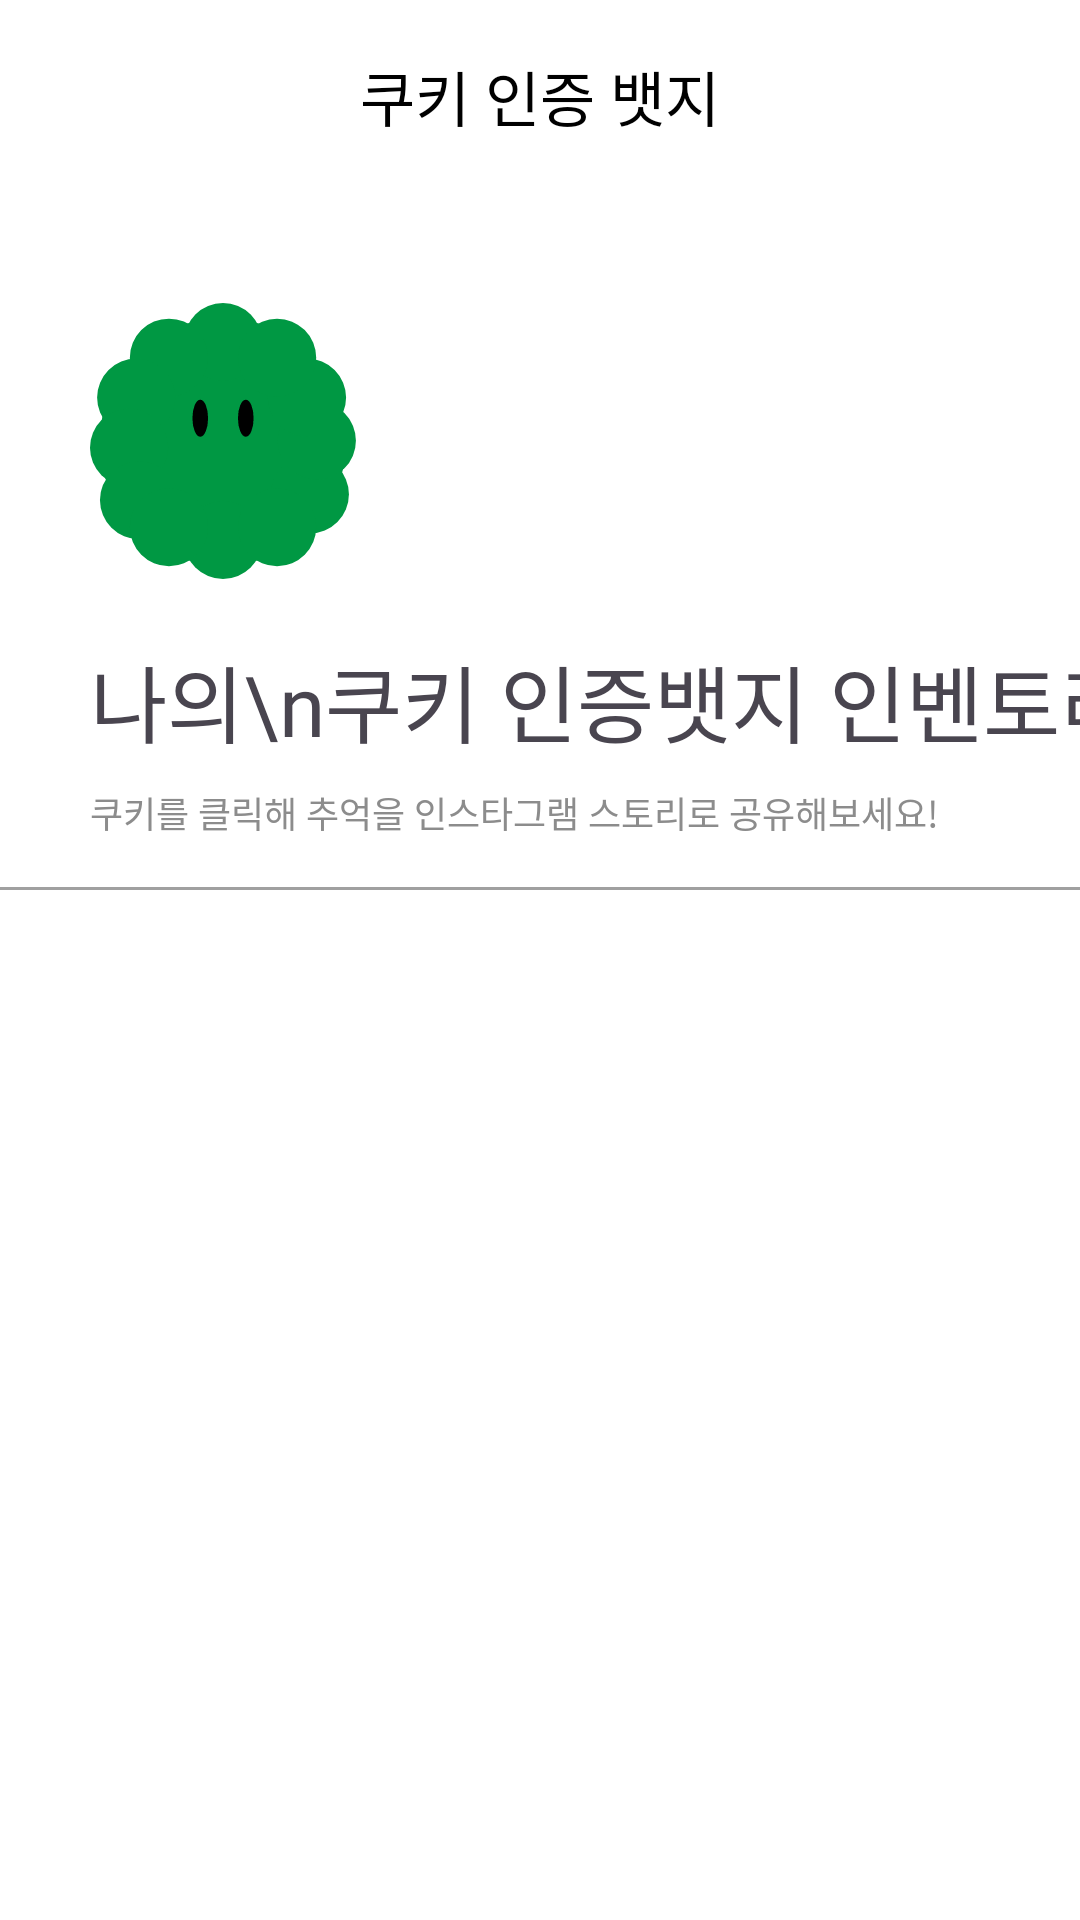

Icon bounding boxes for this 1080x1920 phone screenshot, format (x1, y1, x2, y2):
cookie time: (90, 303, 356, 579)
